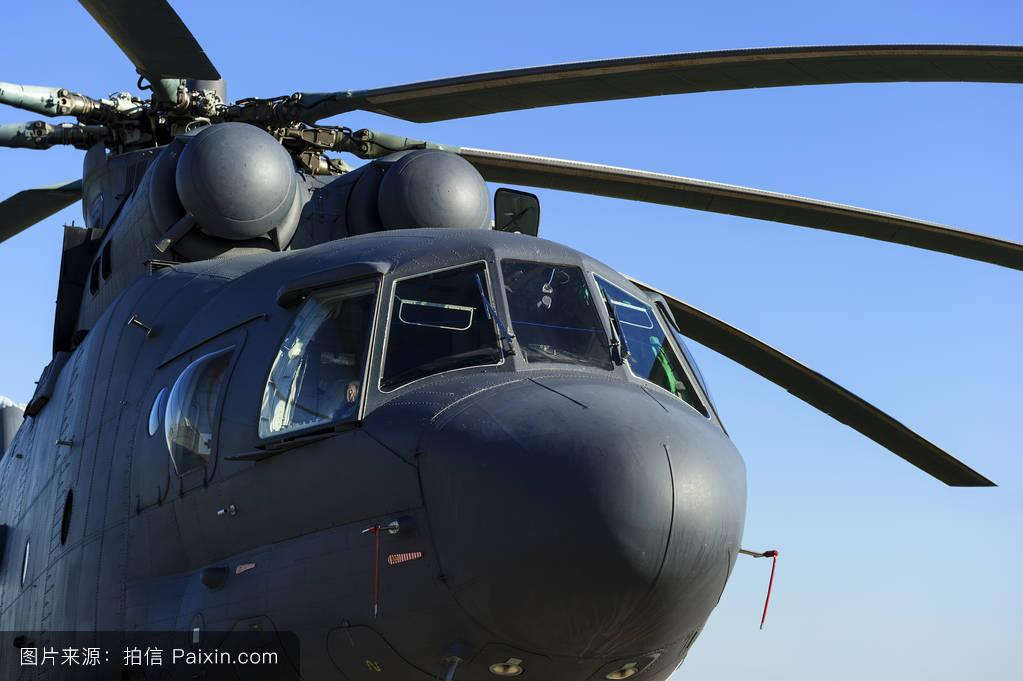airplane: (4, 2, 773, 668)
